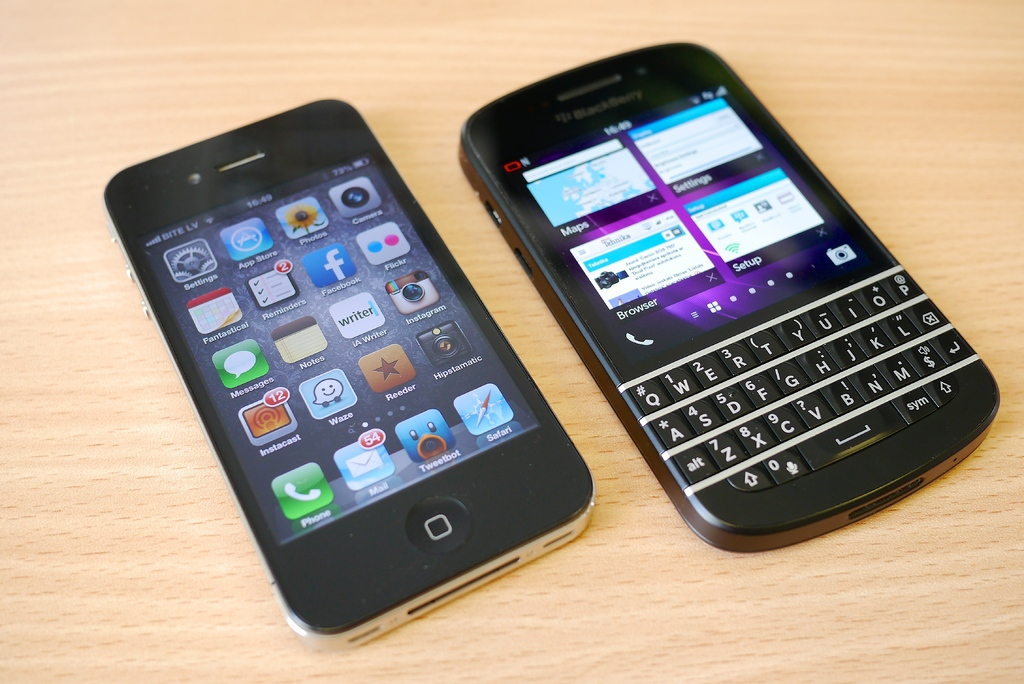Mobile-phone: (456, 41, 1000, 551), (103, 92, 594, 651)
